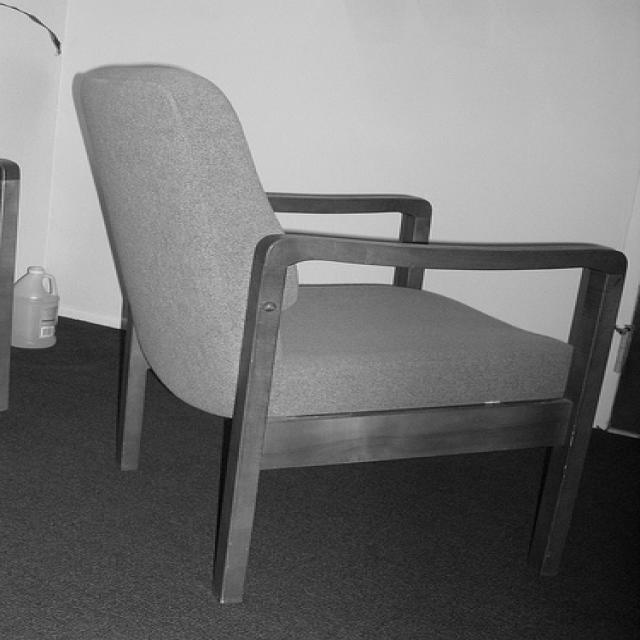chair: (65, 60, 628, 604)
